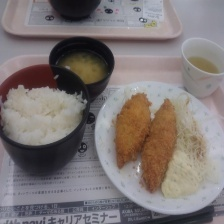rice: (160, 89, 222, 199)
